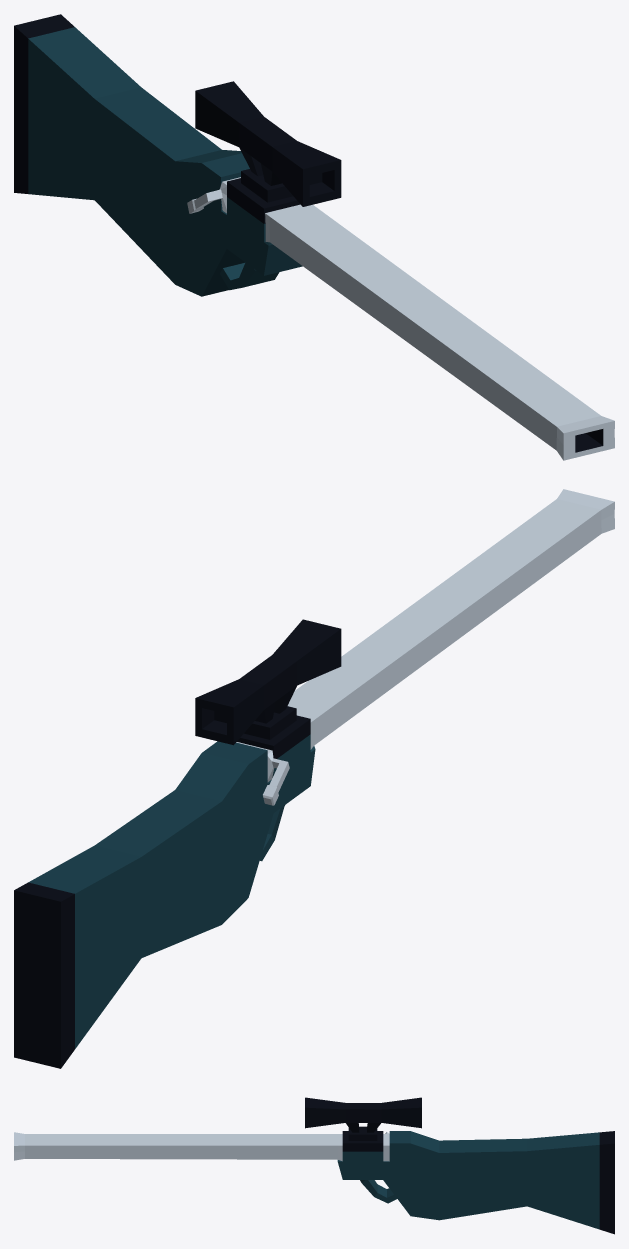
Rendered from Sniper.fbx.
The picture shows the model from 3 angles, top to bottom: view 1: azimuth 30°, elevation 25°; view 2: azimuth 150°, elevation 25°; view 3: azimuth 270°, elevation 25°; orthographic projection. The views are drawn at different scales.
Parts seen in each view (by area): view 1: Sniper; view 2: Sniper; view 3: Sniper.
Boxes of the visible parts, box(x1,y1,x2,y2) form: Sniper: box(14, 14, 614, 460); Sniper: box(14, 489, 614, 1068); Sniper: box(14, 1097, 614, 1234).
Bounding box in the file's own units: 0.1006 × 0.3242 × 1.41.
